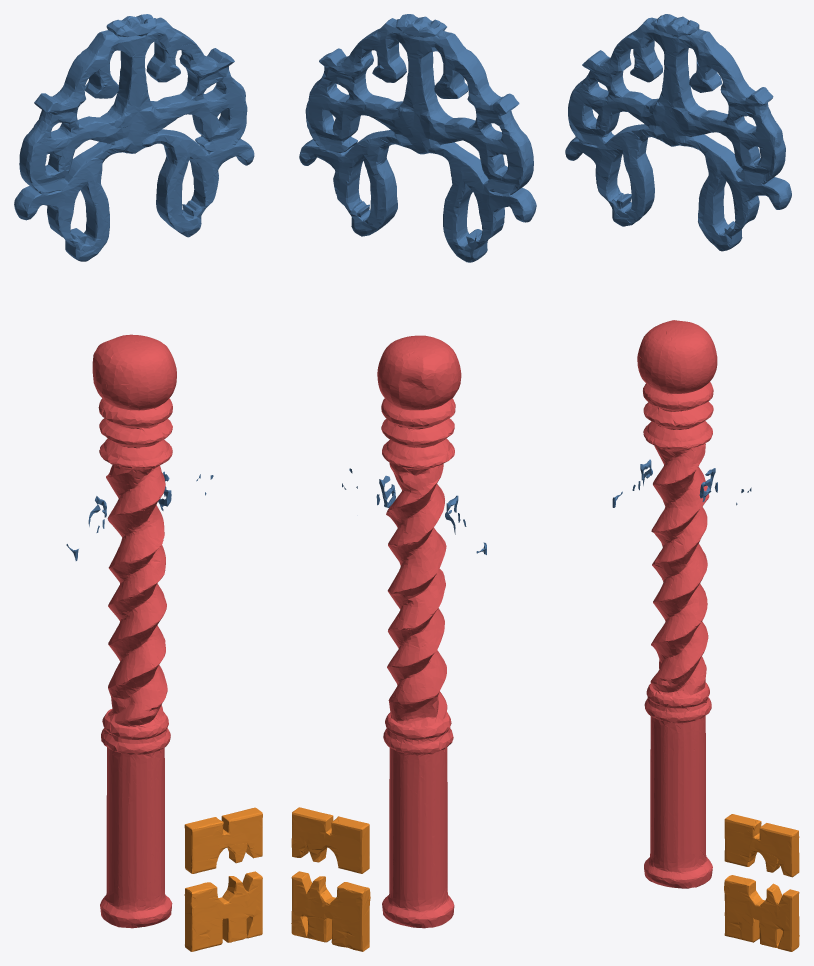
Rendered from key_ours_exploded.glb.
3 views of the same model, side by side, from view 1: azimuth 30°, elevation 25°; view 2: azimuth 150°, elevation 25°; view 3: azimuth 330°, elevation 25° (orthographic). The views are drawn at different scales.
Parts seen in each view (by area): view 1: part_02, part_00, part_01; view 2: part_02, part_00, part_01; view 3: part_02, part_00, part_01.
Part boxes in pixels (<box>): part_02: <box>92,334,176,928</box>; part_00: <box>14,14,254,560</box>; part_01: <box>184,807,262,951</box>; part_02: <box>377,335,461,928</box>; part_00: <box>299,14,536,554</box>; part_01: <box>291,807,370,951</box>; part_02: <box>637,320,717,888</box>; part_00: <box>565,14,791,507</box>; part_01: <box>724,814,799,951</box>.
Bounding box in the file's own units: 0.3262 × 1.22 × 0.0976.
